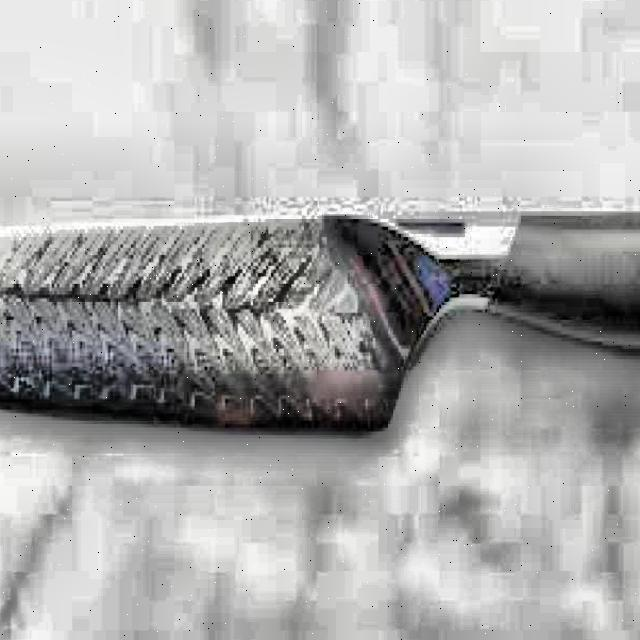knife: (0, 208, 640, 458)
